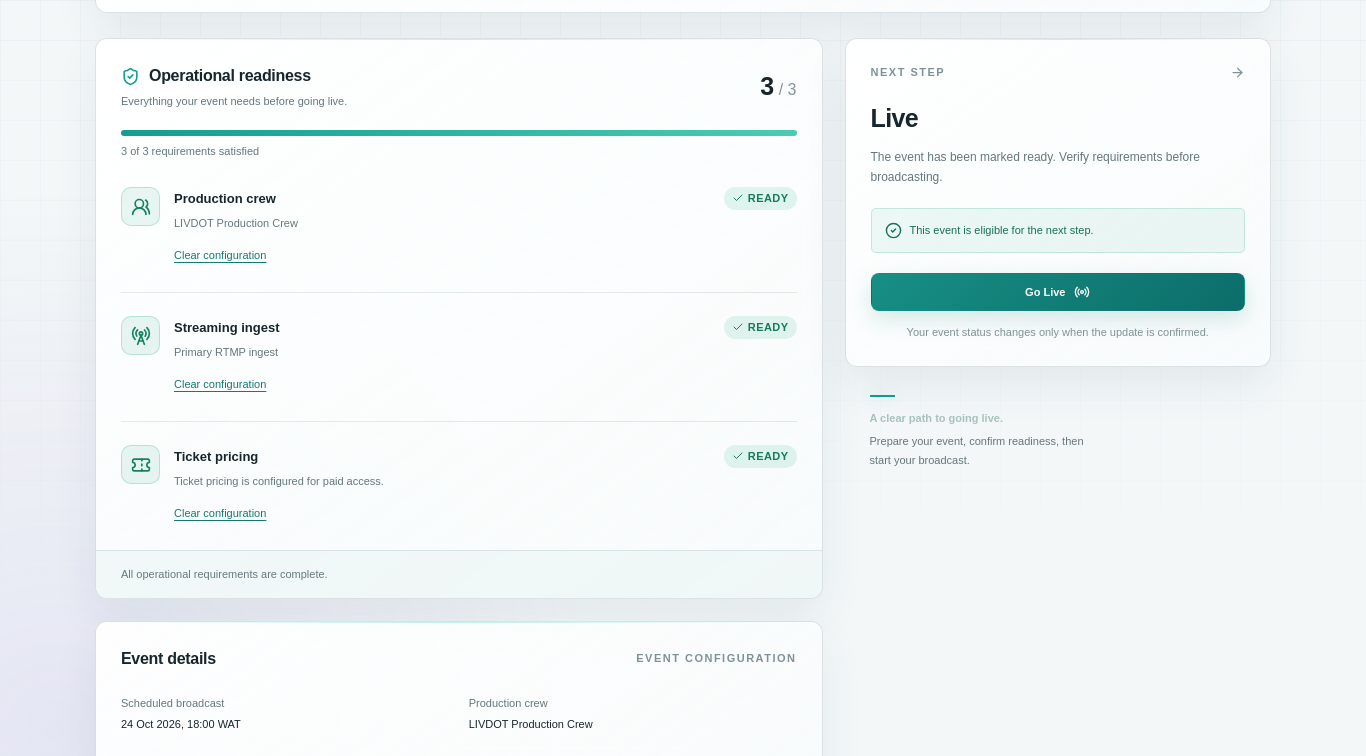
host event dashboard › rechecks Go Live eligibility after clearing a requirement
(page scrolled)
Click the button with aria-label "Clear streaming ingest" at (220, 385), box x1=174 y1=371 x2=266 y2=398
(page scrolled)
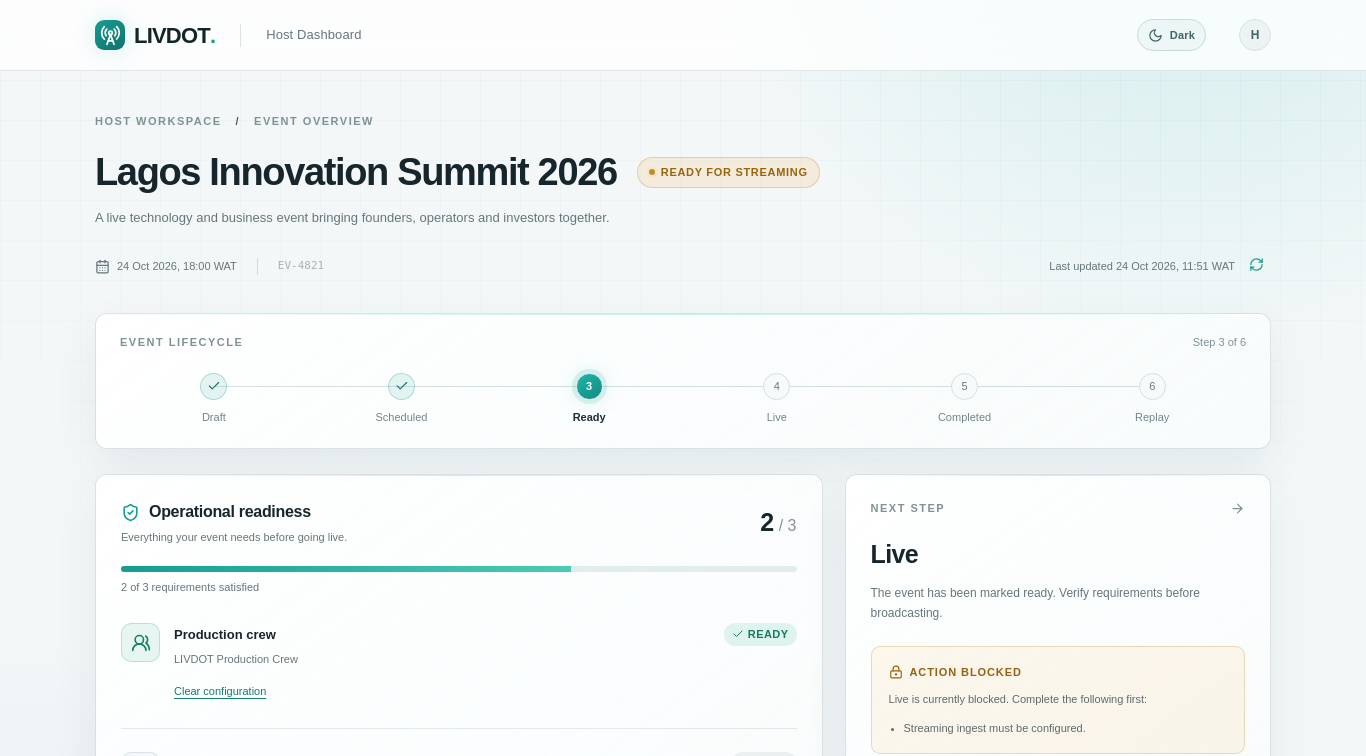
Expected: the element with test id "event-status" reads "Ready for Streaming", x1=661 y1=166 x2=808 y2=178
Result: the list item "Streaming ingest must be configured." is shown at x1=904 y1=722 x2=1086 y2=734
